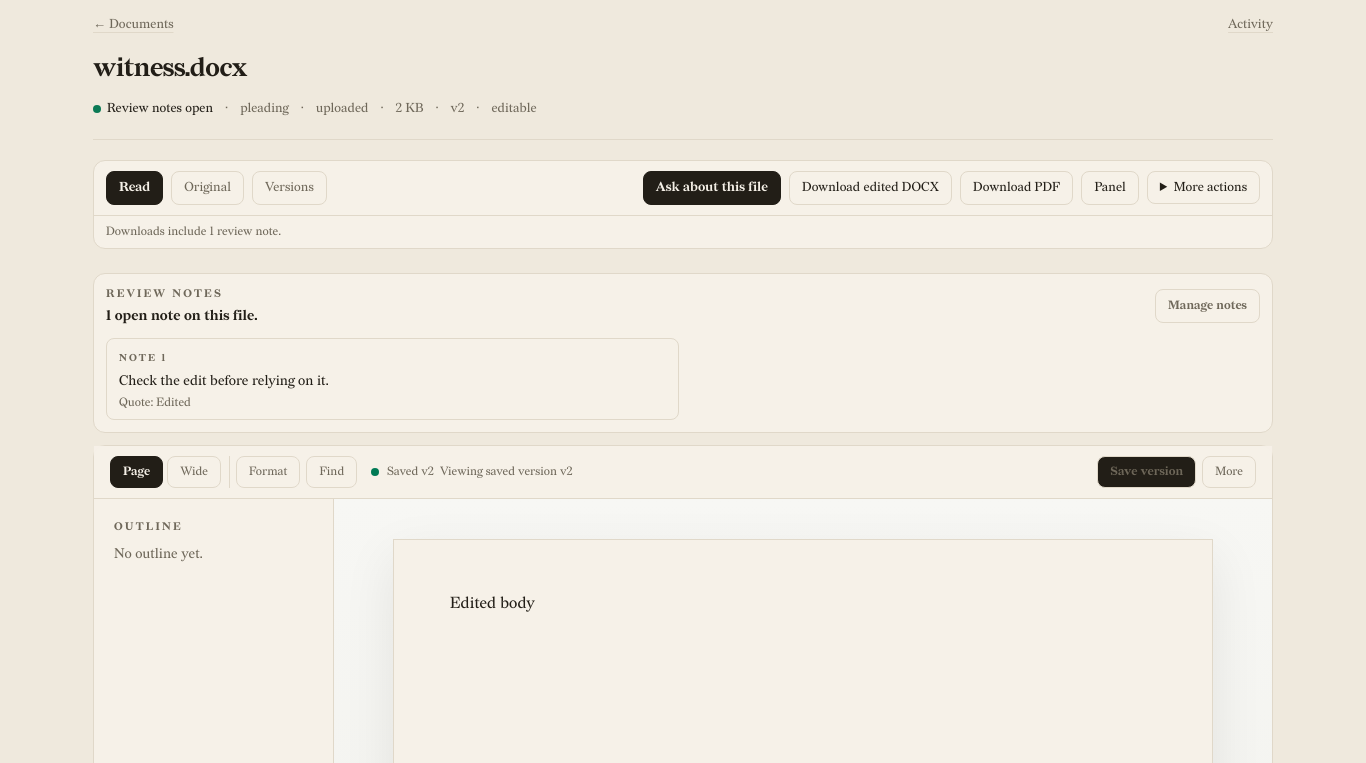
Test case: DocumentDetail — versions › makes saved versions openable and downloadable from the version workspace
Expected: the text "Viewing saved version v2" is shown, 440,464 -> 573,480
Step 1. Click the button "Versions" → click(289, 188), box 252,171 -> 327,205
(page scrolled)
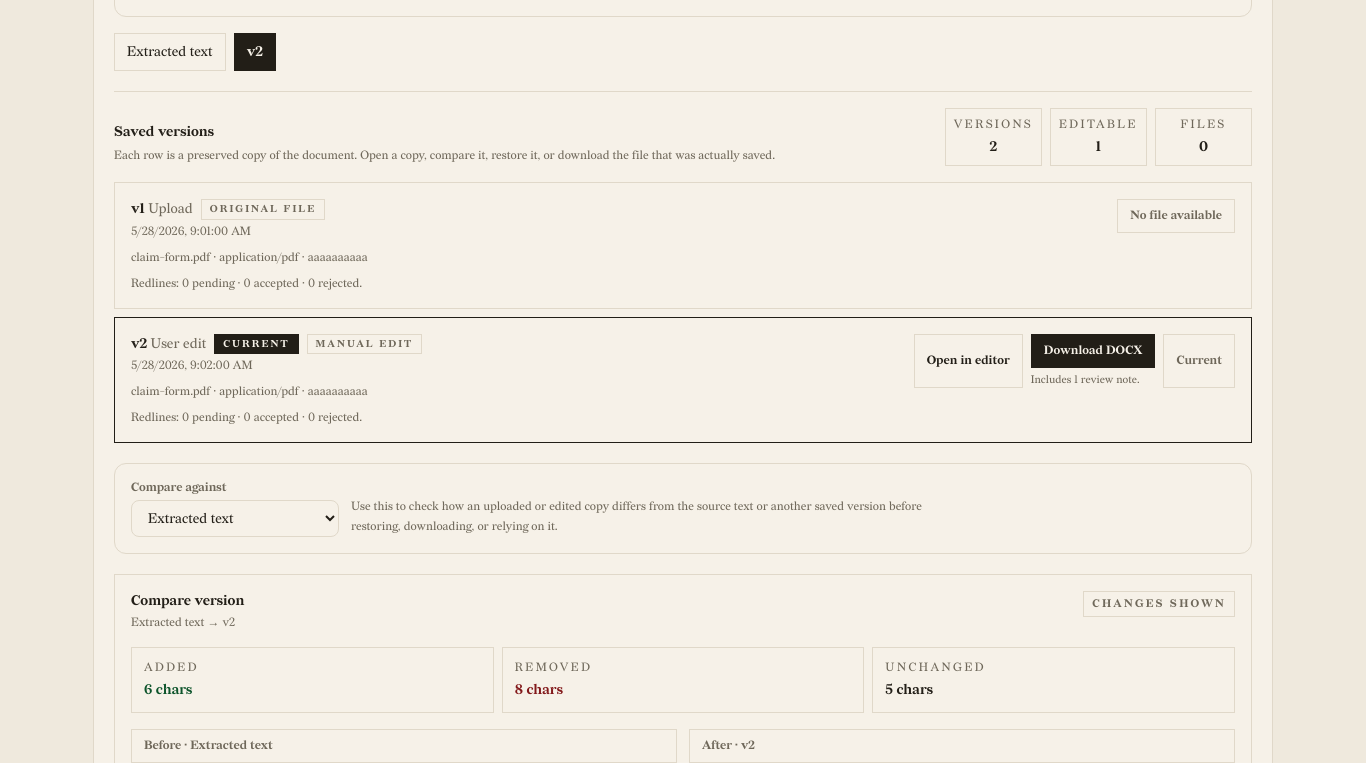
Expected: the heading "Saved versions" is shown, 114,123 -> 214,140
Expected: the button "Open in editor" is shown, 914,334 -> 1023,388
Expected: the text "Includes 1 review note." is shown, 1031,372 -> 1155,388
